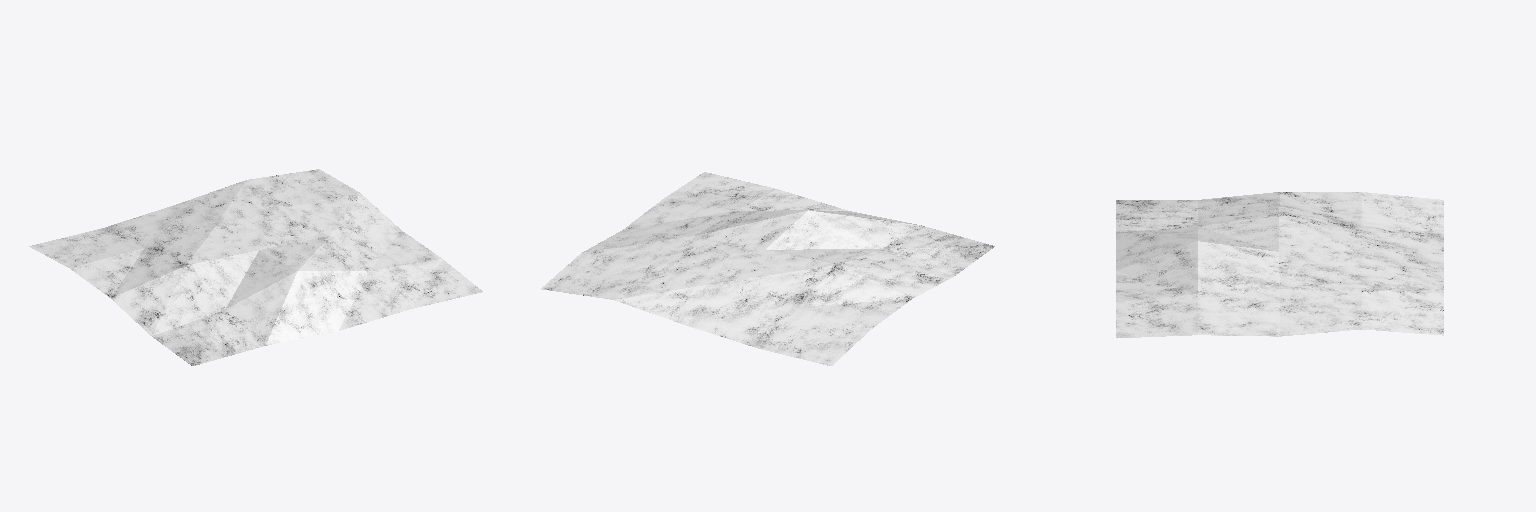
The picture shows the model from 3 angles: view 1: azimuth 30°, elevation 25°; view 2: azimuth 150°, elevation 25°; view 3: azimuth 270°, elevation 25°; orthographic projection.
Parts seen in each view (by area): view 1: Plane001; view 2: Plane001; view 3: Plane001.
Part boxes in pixels (left/top/right/bottom): Plane001: left=29, top=169, right=482, bottom=365; Plane001: left=541, top=172, right=994, bottom=365; Plane001: left=1116, top=192, right=1443, bottom=337.
Size of the model in its own units: 100 by 10.01 by 97.87.
1 materials, 1 textured.